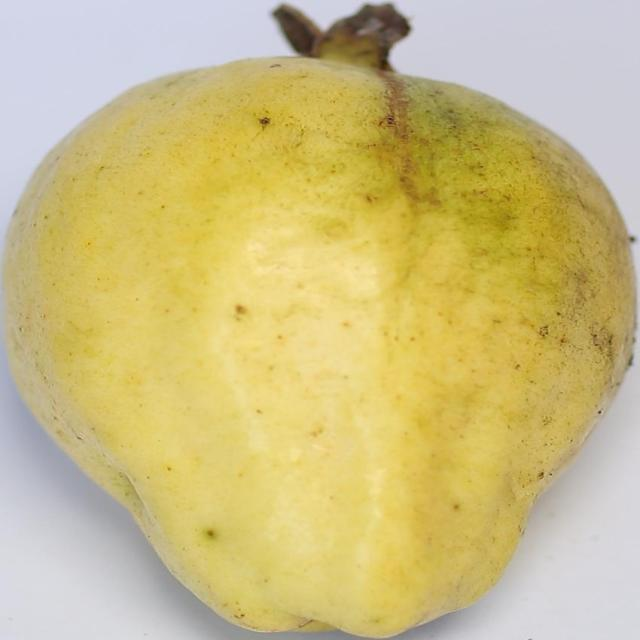Good_Guava: (0, 3, 638, 640)
